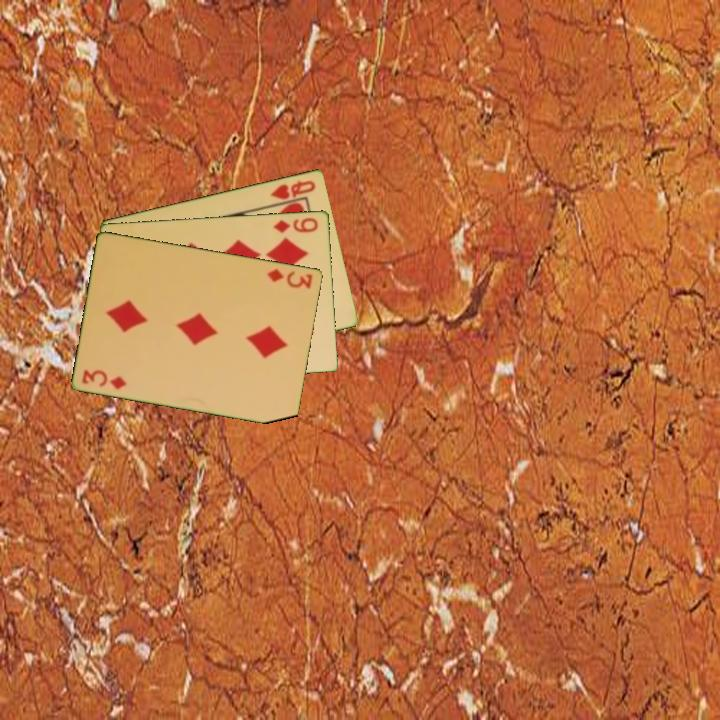3d: (79, 365, 130, 392), (264, 265, 316, 291)
9d: (270, 214, 321, 235)
Qh: (267, 176, 318, 202)
